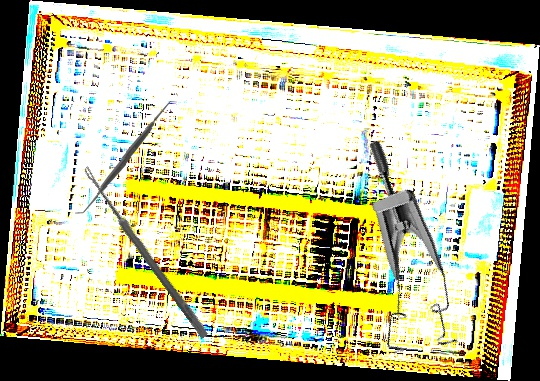Spatula Surgical: (71, 100, 181, 215)
Speculum: (290, 136, 494, 375)
Surgical Spoon: (79, 164, 211, 340)
